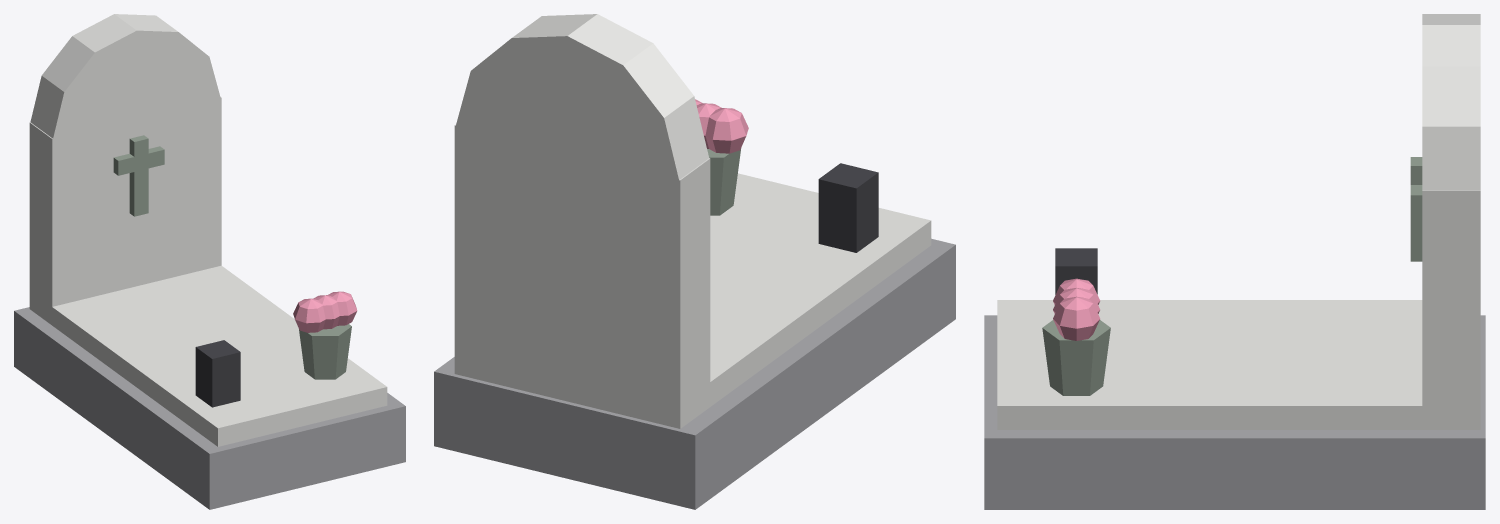
File: VN_Tumba_A.fbx
3 views of the same model, side by side, from view 1: azimuth 30°, elevation 25°; view 2: azimuth 150°, elevation 25°; view 3: azimuth 270°, elevation 25° (orthographic). The views are drawn at different scales.
Visible parts, largest first — view 1: VN_Tumba_A; view 2: VN_Tumba_A; view 3: VN_Tumba_A.
Part boxes in pixels (x1,y1,x2,y2): VN_Tumba_A: [14, 14, 405, 509]; VN_Tumba_A: [434, 14, 955, 509]; VN_Tumba_A: [984, 14, 1485, 509].
Bounding box in the file's own units: 1.1 × 1.77 × 1.9.
